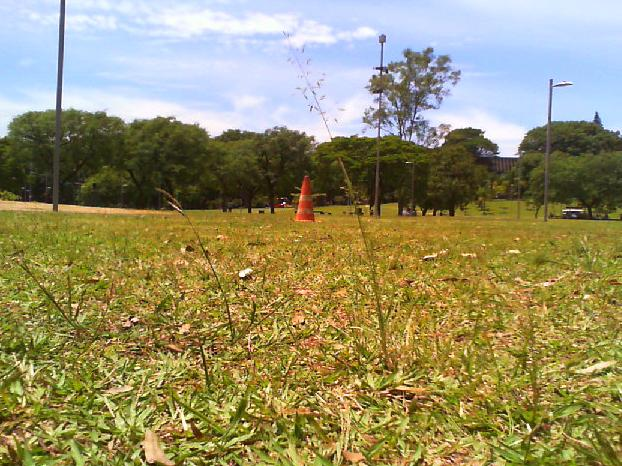0 cone: (296, 176, 314, 222)
